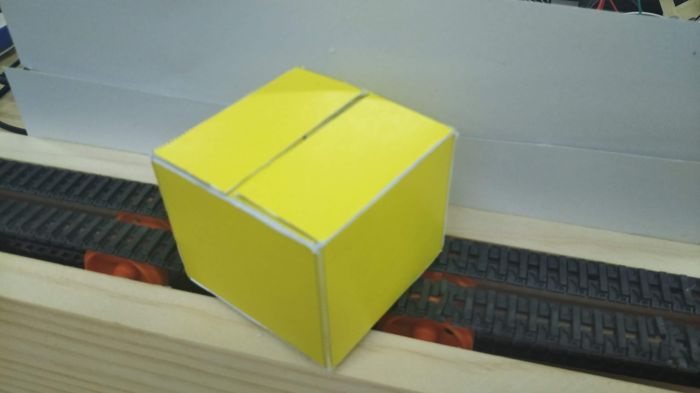box4: (140, 63, 454, 375)
